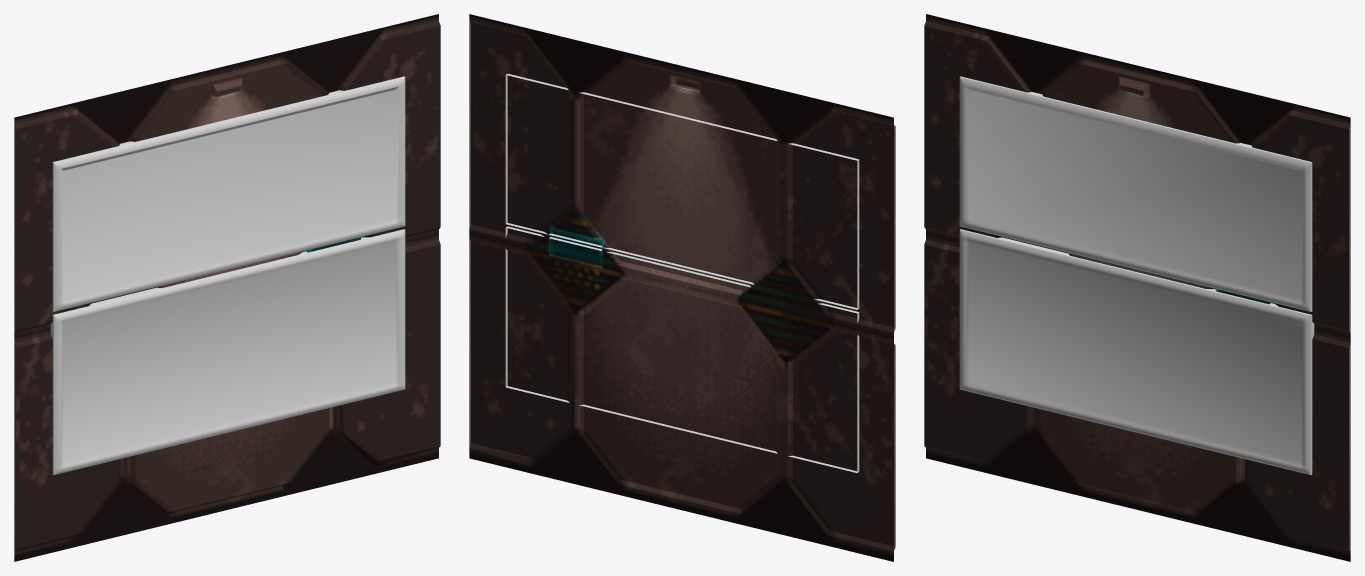
Rendered from eng1_7.fbx.
3 views of the same model, side by side, from view 1: azimuth 30°, elevation 25°; view 2: azimuth 150°, elevation 25°; view 3: azimuth 330°, elevation 25° (orthographic).
Visible parts, largest first — view 1: eng1_7_extrudedscreens, eng1_7_back1_5_mesh; view 2: eng1_7_back1_5_mesh, eng1_7_extrudedscreens; view 3: eng1_7_extrudedscreens, eng1_7_back1_5_mesh.
Part boxes in pixels (x1,y1,x2,y2): eng1_7_extrudedscreens: (50,76,405,475); eng1_7_back1_5_mesh: (14,14,440,561); eng1_7_back1_5_mesh: (469,14,895,561); eng1_7_extrudedscreens: (505,73,859,472); eng1_7_extrudedscreens: (959,76,1314,475); eng1_7_back1_5_mesh: (924,14,1350,561).
Bounding box in the file's own units: 256 × 256 × 5.
